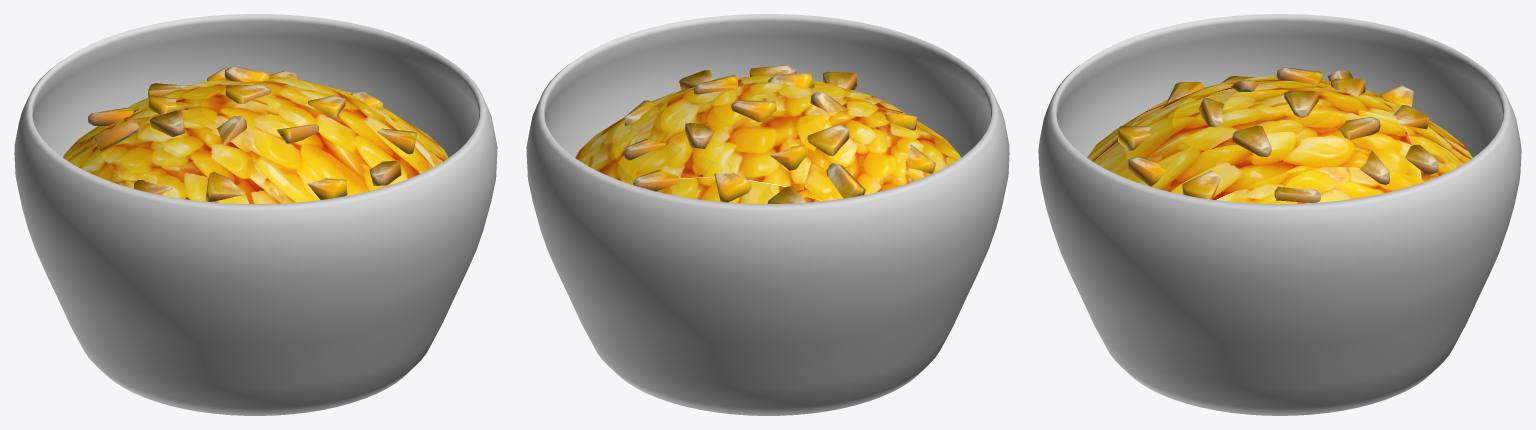
The model's file is corn_bowl.fbx.
The picture shows the model from 3 angles, left to right: view 1: azimuth 30°, elevation 25°; view 2: azimuth 150°, elevation 25°; view 3: azimuth 270°, elevation 25°; orthographic projection.
Parts seen in each view (by area): view 1: Sphere, Sphere.001, corn.008, corn.015, corn.006, corn.016, corn.010, corn.003, corn.004, corn, corn.013, corn.017 (+3 smaller); view 2: Sphere, Sphere.001, corn.015, corn.012, corn.006, corn.016, corn.014, corn, corn.009, corn.017, corn.001, corn.007 (+4 smaller); view 3: Sphere, Sphere.001, corn.017, corn.004, corn.003, corn, corn.016, corn.014, corn.010, corn.005, corn.015, corn.012 (+4 smaller).
Part boxes in pixels (x1,y1,x2,y2): Sphere: (14, 14, 497, 415); Sphere.001: (63, 76, 448, 203); corn.008: (205, 171, 244, 202); corn.015: (149, 110, 185, 136); corn.006: (94, 122, 140, 152); corn.016: (225, 84, 271, 103); corn.010: (307, 178, 347, 199); corn.003: (369, 160, 401, 185); corn.004: (377, 128, 417, 154); corn: (224, 66, 269, 82); corn.013: (88, 108, 133, 125); corn.017: (307, 95, 345, 117); Sphere: (526, 14, 1009, 415); Sphere.001: (575, 76, 960, 203); corn.015: (807, 124, 849, 155); corn.012: (714, 173, 751, 202); corn.006: (826, 163, 865, 198); corn.016: (731, 100, 776, 122); corn.014: (633, 169, 679, 191); corn: (685, 123, 714, 148); corn.009: (770, 145, 807, 170); corn.017: (694, 75, 737, 94); corn.001: (768, 73, 814, 88); corn.007: (905, 144, 936, 173); Sphere: (1038, 14, 1521, 415); Sphere.001: (1087, 76, 1472, 204); corn.017: (1232, 125, 1271, 156); corn.004: (1182, 170, 1221, 199); corn.003: (1128, 157, 1165, 186); corn: (1338, 117, 1380, 139); corn.016: (1284, 91, 1318, 117); corn.014: (1404, 144, 1438, 174); corn.010: (1118, 126, 1150, 150); corn.005: (1274, 186, 1320, 202); corn.015: (1276, 67, 1323, 84); corn.012: (1393, 105, 1429, 129).
Bounding box in the file's own units: 39.86 × 22.98 × 39.86.
20 materials, 19 textured.
